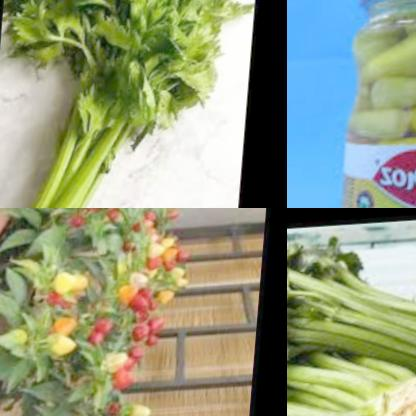celery: (0, 0, 262, 208), (287, 212, 416, 416), (287, 293, 416, 416)
hot pepper: (116, 229, 198, 388), (343, 2, 416, 178), (33, 310, 88, 375), (82, 302, 131, 374), (42, 266, 102, 316), (63, 208, 146, 236), (105, 383, 166, 416)
